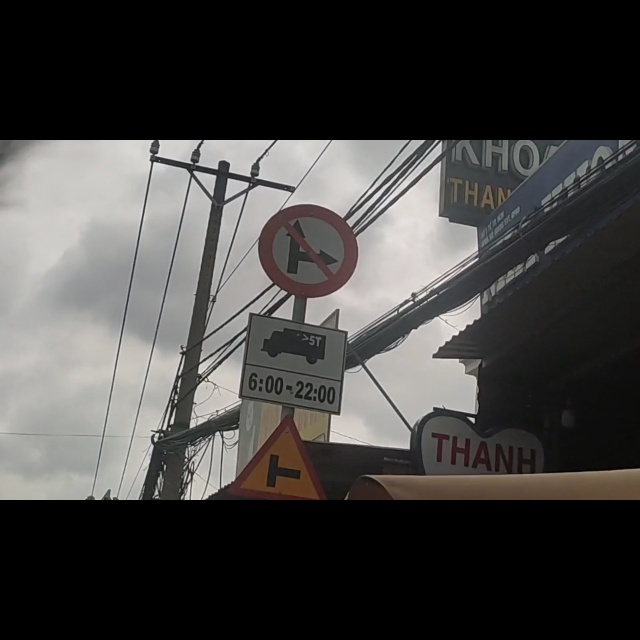bien_nguy_hiem: (242, 311, 345, 473), (261, 114, 355, 276), (229, 486, 321, 640)
